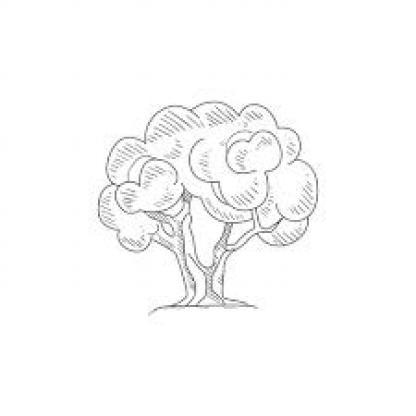crown_cloud: (98, 103, 318, 253)
root_none: (173, 291, 249, 335)
trunk_bark: (177, 268, 228, 301)
